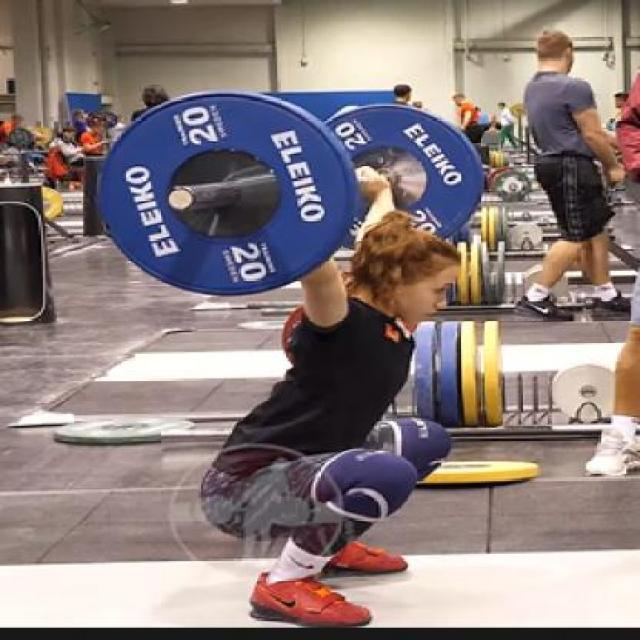Barbell: (162, 183, 204, 214)
